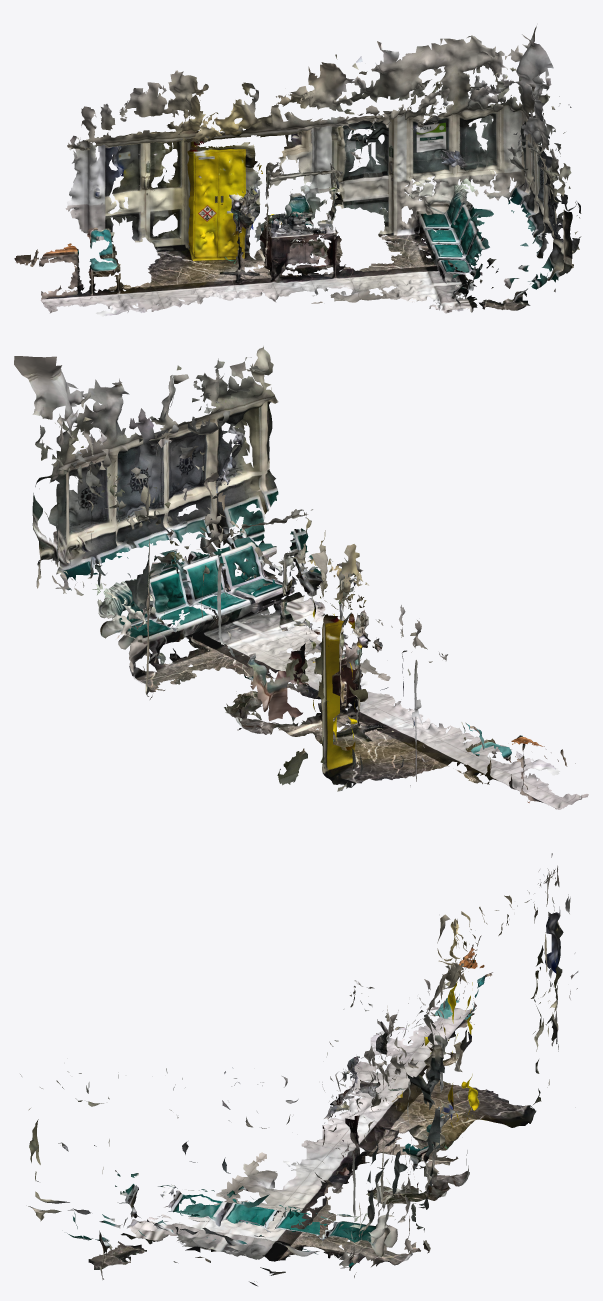
Rendered from 139864-polirvs3-tex.glb.
3 renders of one model, top to bottom at view 1: azimuth 30°, elevation 25°; view 2: azimuth 150°, elevation 25°; view 3: azimuth 270°, elevation 25°, orthographic. The views are drawn at different scales.
Visible parts, largest first — view 1: Node; view 2: Node; view 3: Node.
Part boxes in pixels (box(x1,y1,x2,y2)): Node: box(14, 26, 581, 316); Node: box(14, 346, 588, 809); Node: box(20, 853, 578, 1286).
Size of the model in its own units: 8.67 by 3.74 by 6.08.
Materials: 16 (16 with a texture image).
